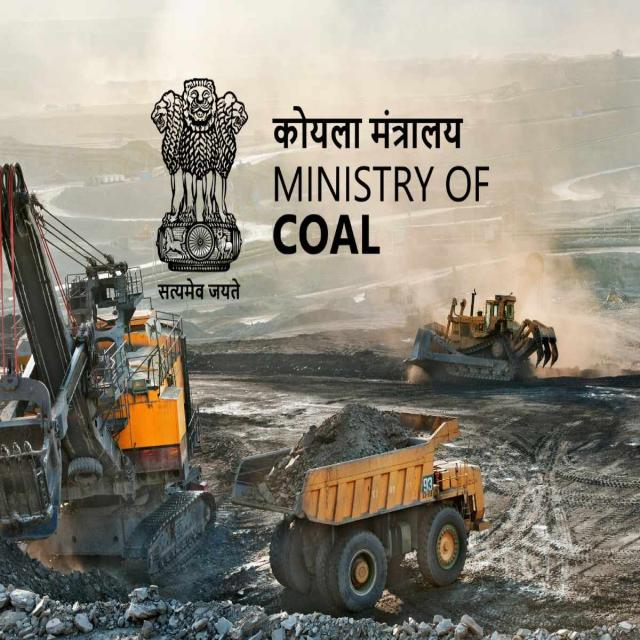buldozerpayloadergrader: (406, 290, 561, 402)
dump_truck: (233, 401, 487, 610)
excavator: (0, 167, 220, 550)
